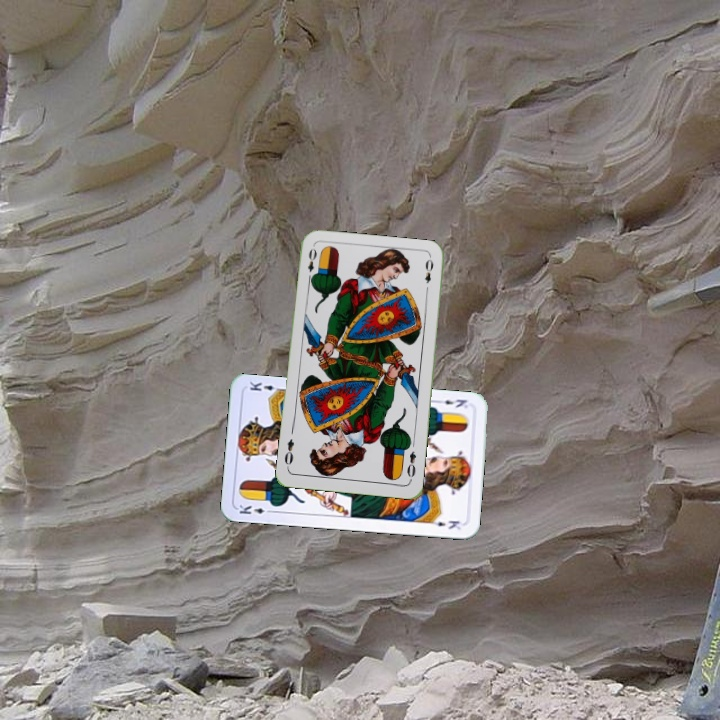EK: (235, 501, 276, 517), (433, 395, 470, 410)
EO: (304, 244, 319, 284), (403, 447, 419, 483)
